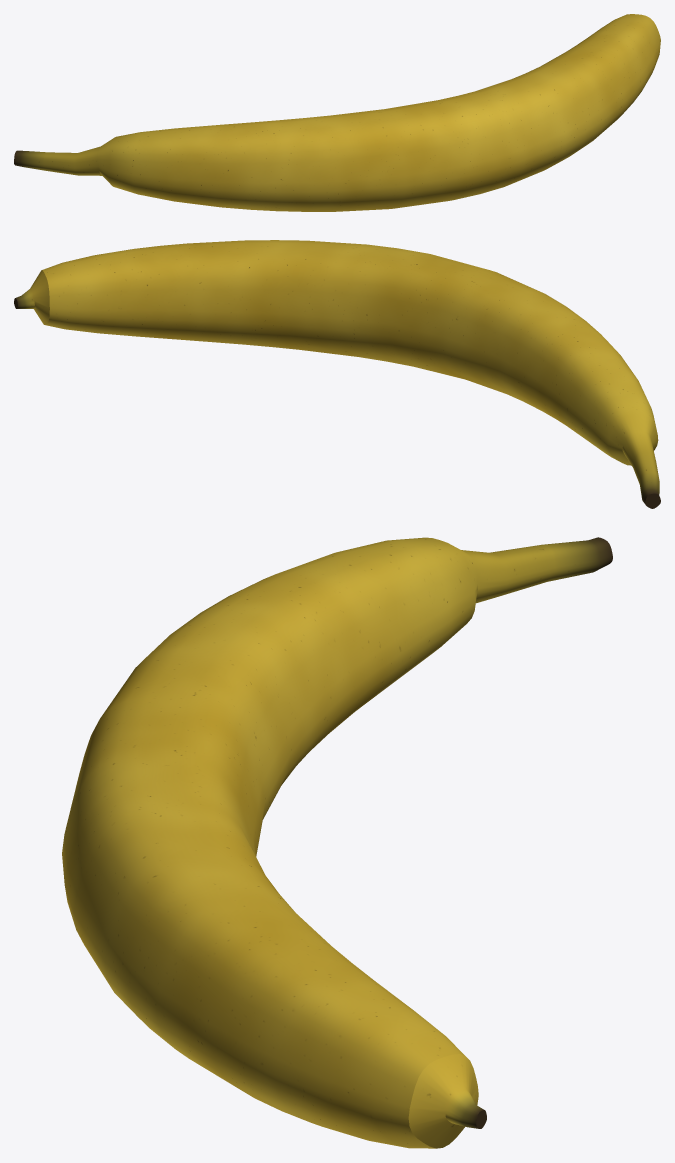
The model's file is SM_Banana_001.fbx.
3 renders of one model, top to bottom at view 1: azimuth 30°, elevation 25°; view 2: azimuth 150°, elevation 25°; view 3: azimuth 270°, elevation 25°, orthographic. The views are drawn at different scales.
Visible parts, largest first — view 1: SM_Banana; view 2: SM_Banana; view 3: SM_Banana.
Boxes of the visible parts, x1,y1,x2,y2 form: SM_Banana: (14,14,660,211); SM_Banana: (14,240,660,508); SM_Banana: (62,537,612,1148).
Size of the model in its own units: 24.25 by 3.66 by 9.56.
